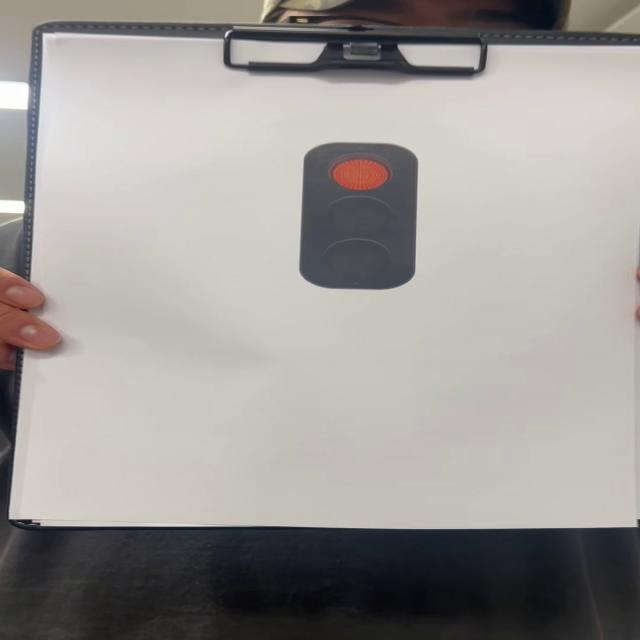red: (301, 143, 421, 292)
